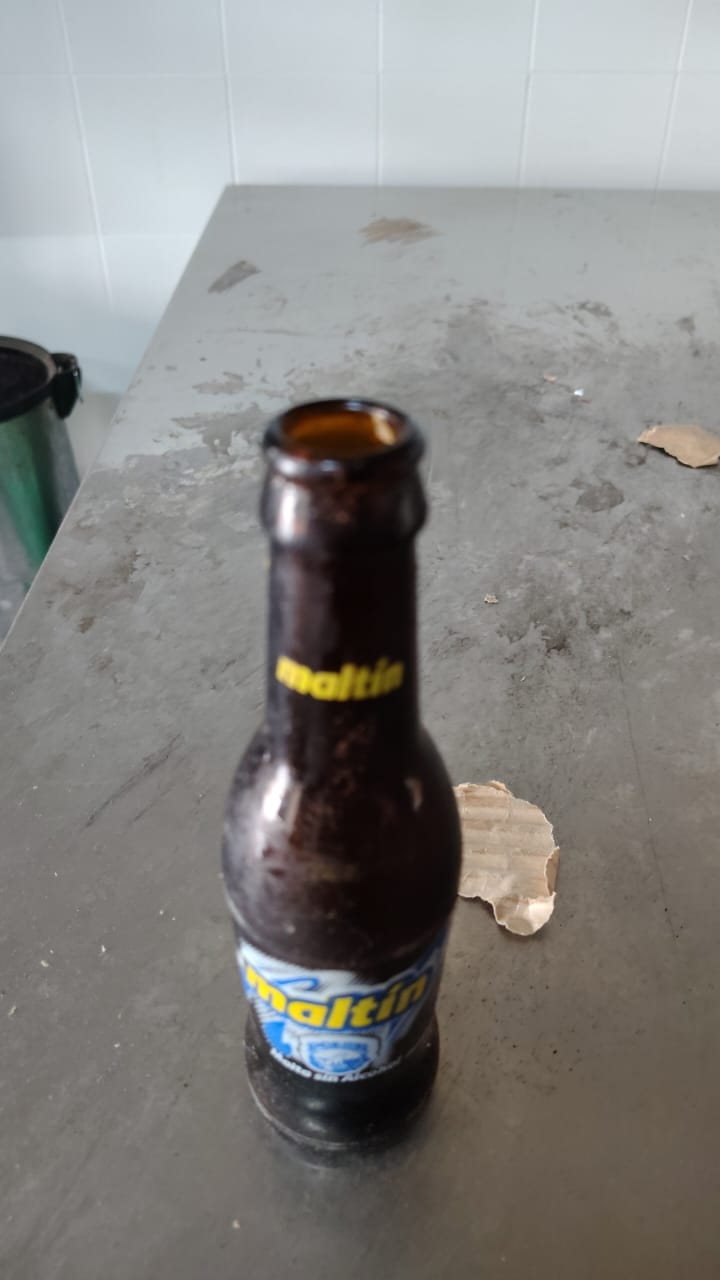Vidrio: (218, 398, 466, 1157)
